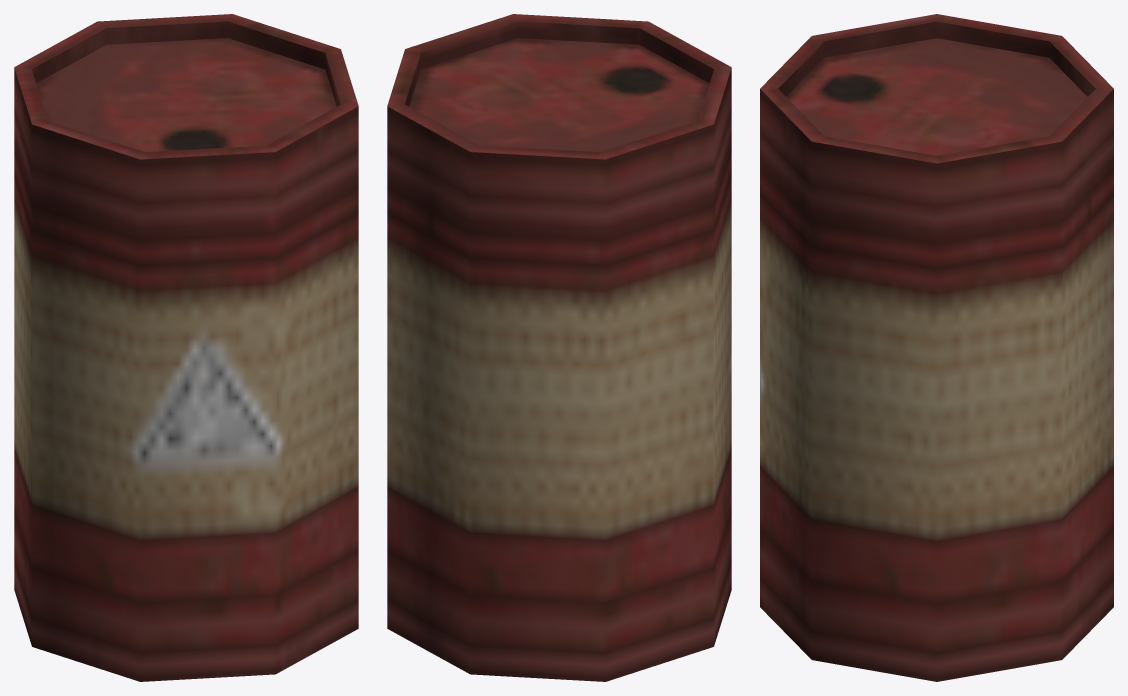
The model's file is ps1_barrel.glb.
3 views of the same model, side by side, from view 1: azimuth 30°, elevation 25°; view 2: azimuth 150°, elevation 25°; view 3: azimuth 270°, elevation 25° (orthographic).
Parts seen in each view (by area): view 1: barrel; view 2: barrel; view 3: barrel.
Boxes of the visible parts, x1,y1,x2,y2 form: barrel: (14, 14, 358, 681); barrel: (387, 14, 731, 681); barrel: (760, 14, 1113, 681).
Size of the model in its own units: 1.24 by 2 by 1.24.
Materials: 1 (1 with a texture image).
